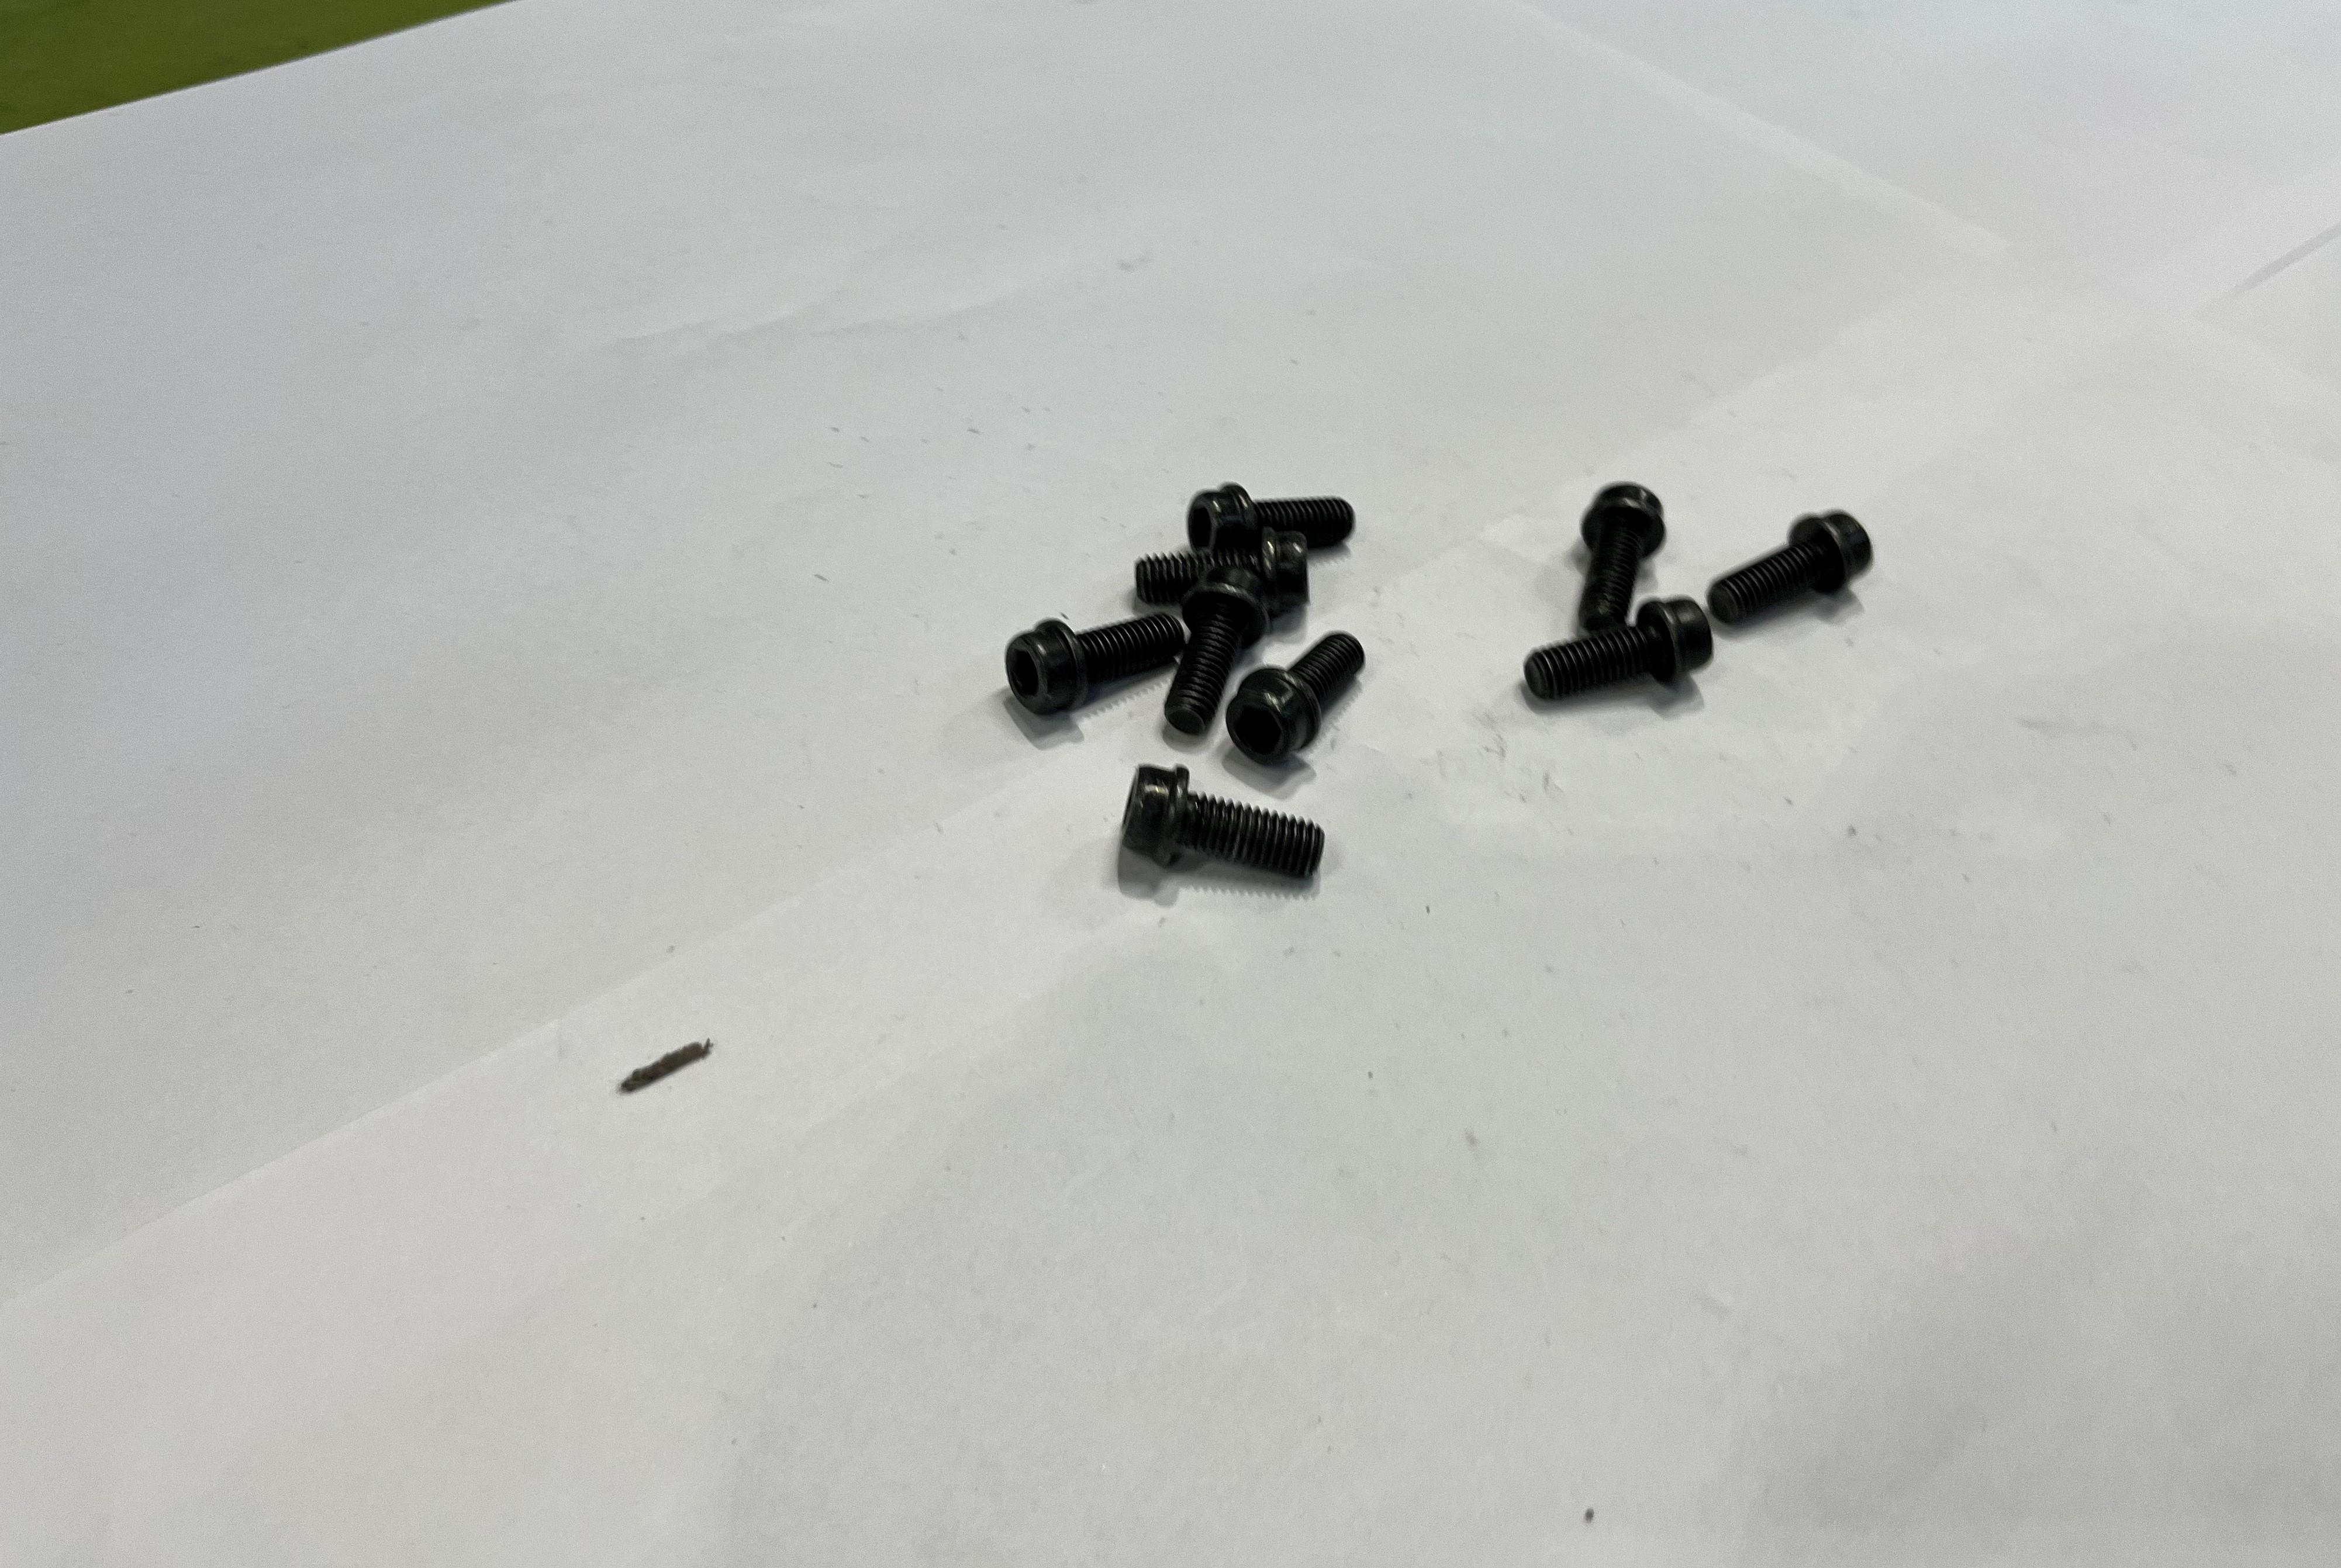Type C: (1115, 765, 1323, 880), (1515, 595, 1715, 704), (1709, 509, 1876, 625), (1004, 616, 1184, 721), (1228, 632, 1363, 765), (1167, 569, 1270, 735), (1578, 476, 1666, 637), (1132, 543, 1319, 616), (1188, 485, 1358, 546)
